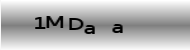1: (34, 16, 46, 30)
D: (68, 17, 83, 31)
M: (45, 14, 64, 29)
a: (111, 23, 125, 34), (83, 24, 95, 34)
